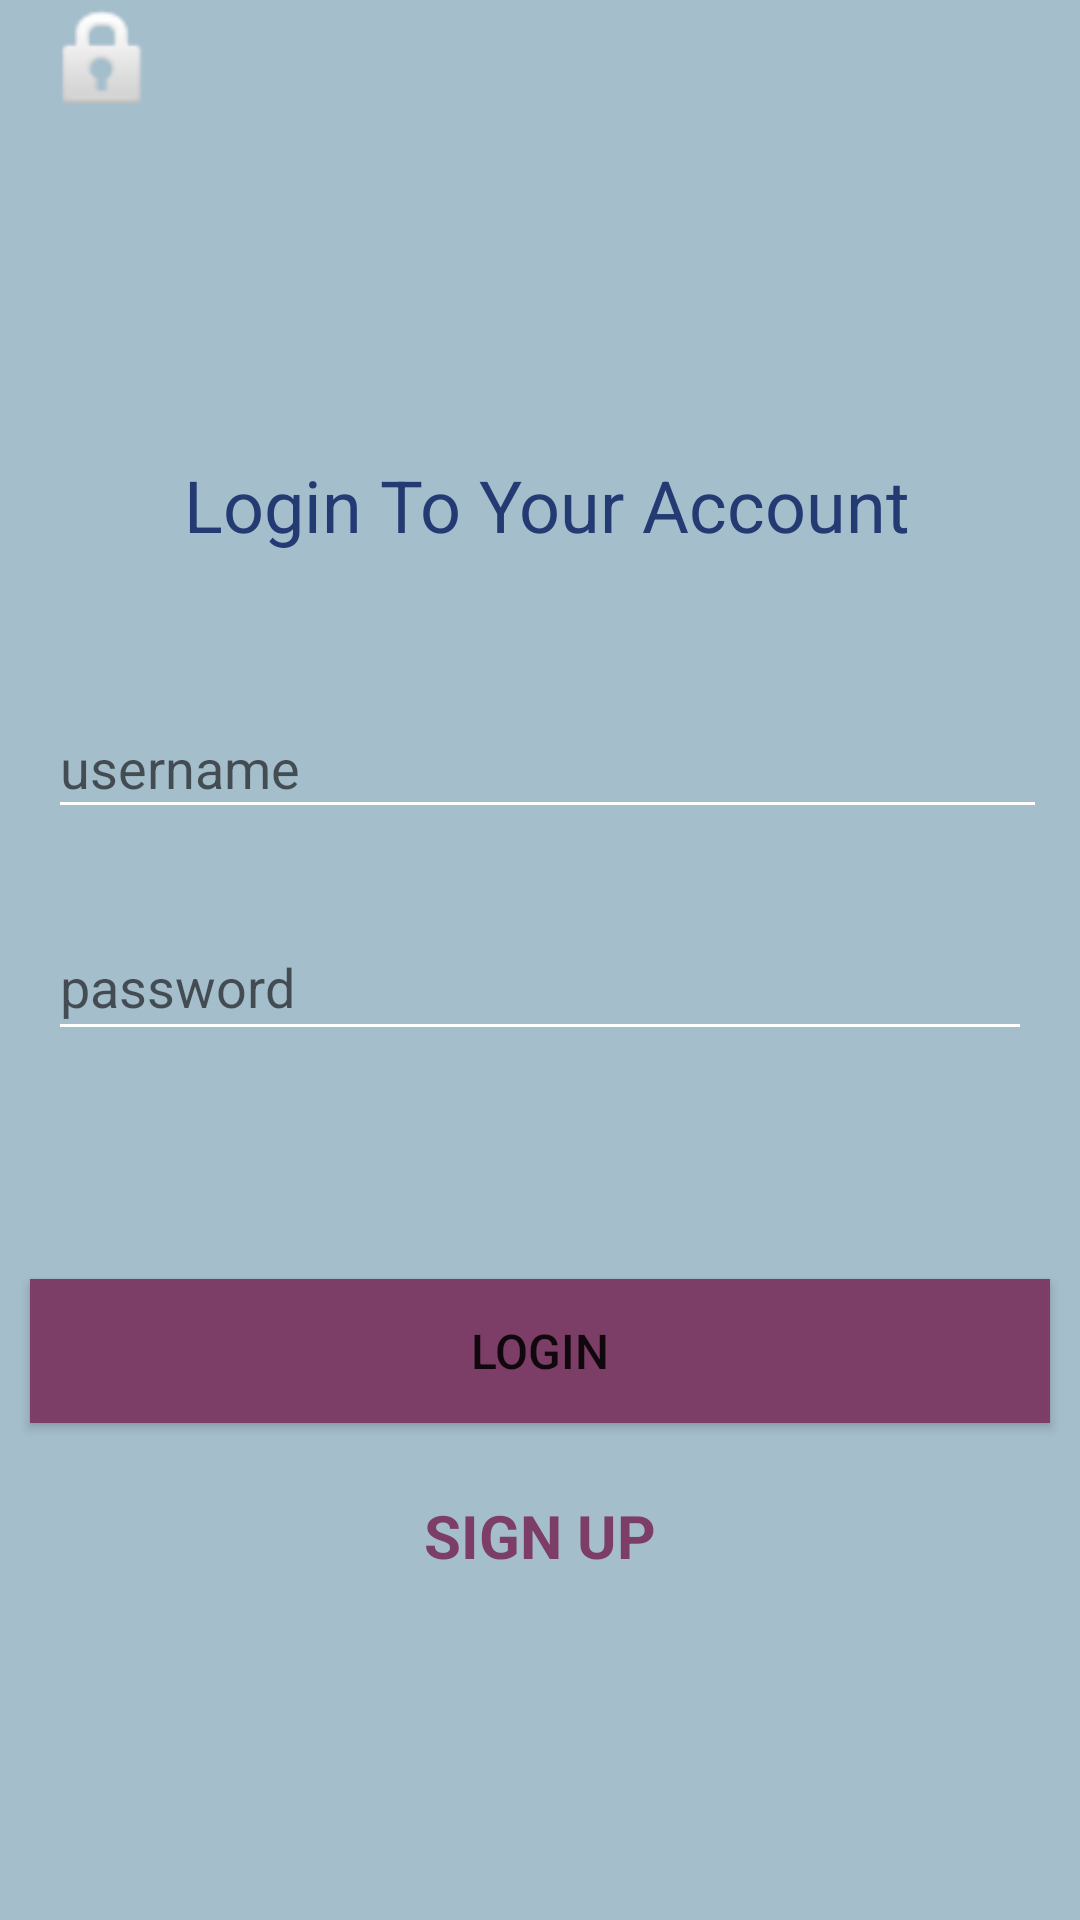

Where icons sit on this 1080 × 1920 app screen, as region(x1, y1, x2, y2):
lock idle: region(62, 11, 141, 102)
